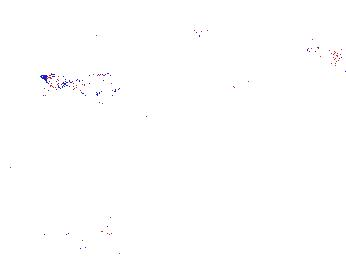red belly glassfish: (305, 41, 331, 55), (190, 23, 214, 38)
redtail glassfish: (38, 69, 125, 103), (211, 66, 250, 91)
siberian prawn: (33, 223, 105, 256)
